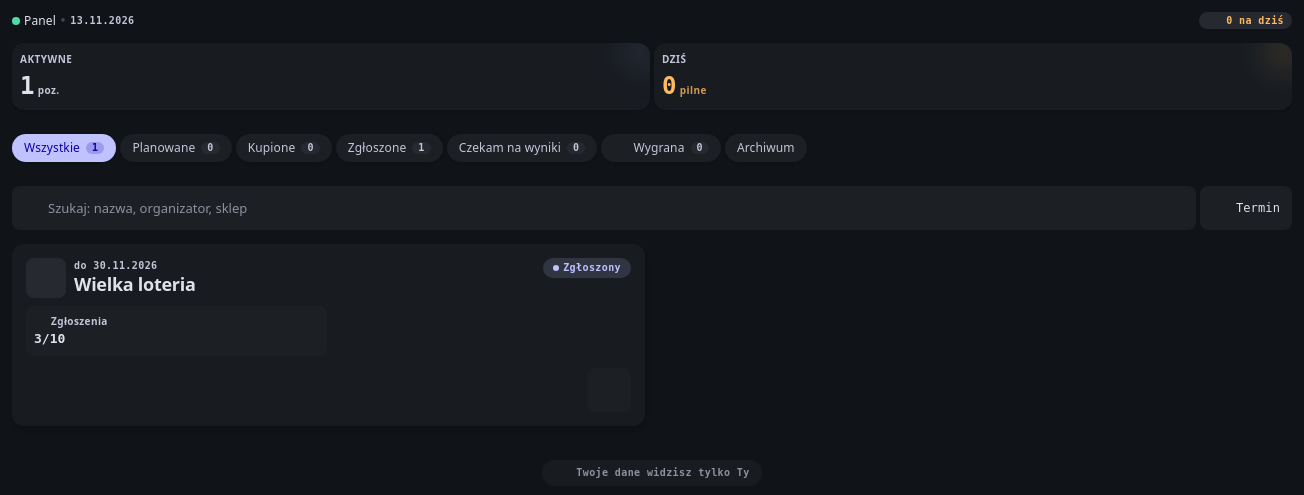
Test: ContestsPage › status pill filters and shows empty state
This screenshot has width=1304, height=495.
Expected: the link "Wielka loteria" is shown, [74, 272, 196, 296]
Click the button "Wygrana 0" at (661, 148), box [601, 126, 721, 170]
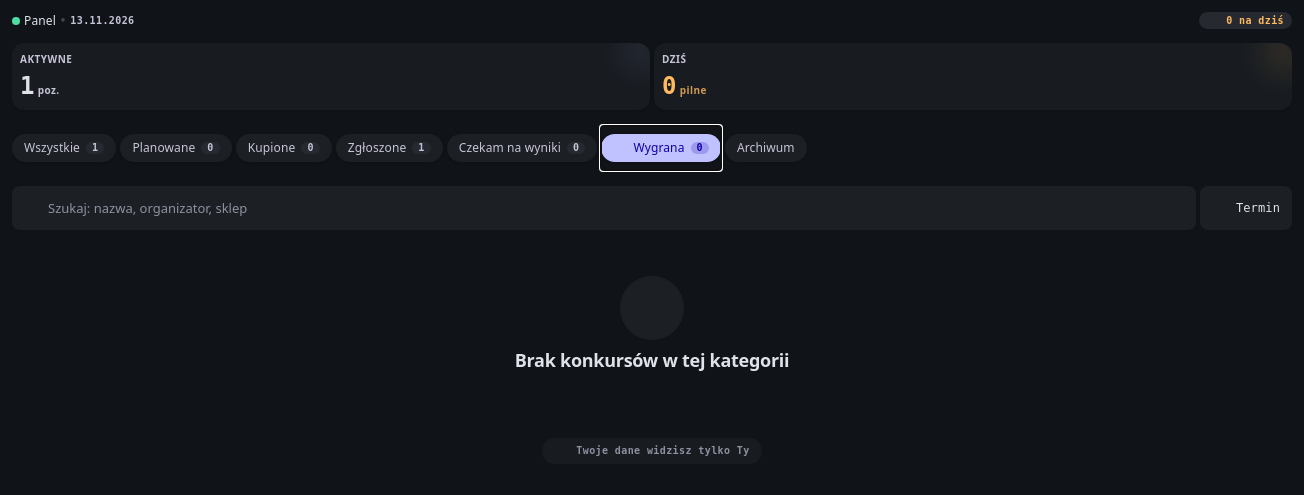
Now the heading "Brak konkursów w tej kategorii" is shown, box [515, 348, 789, 372]
